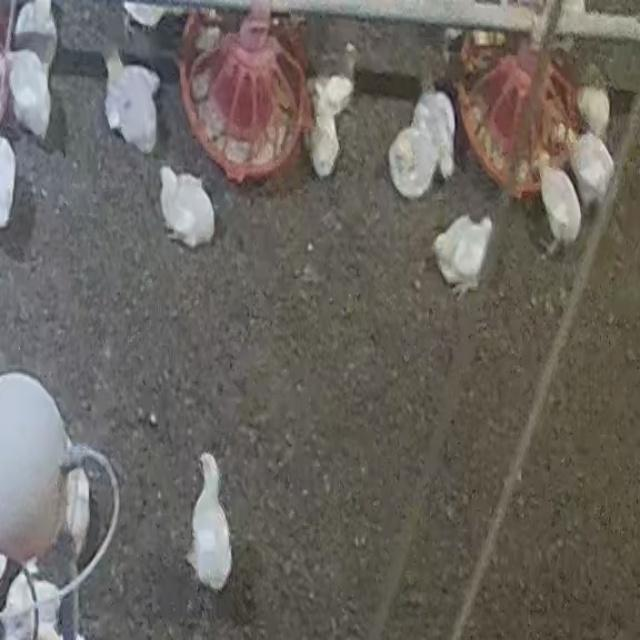chicken: (100, 39, 163, 152), (188, 449, 232, 593), (536, 153, 582, 264), (431, 217, 492, 300), (161, 165, 217, 251), (558, 121, 612, 208), (7, 49, 54, 142), (388, 128, 440, 201), (413, 92, 455, 176), (301, 69, 367, 114), (302, 104, 342, 178), (14, 0, 58, 66), (574, 85, 614, 136)
